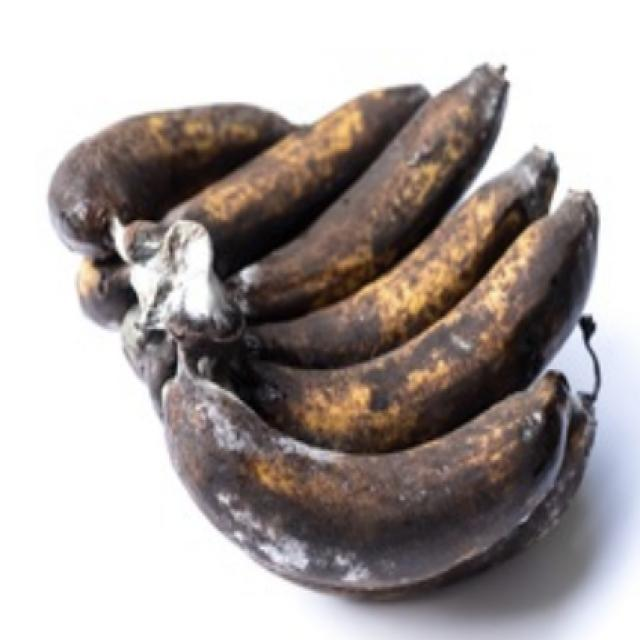rotten-banana: (135, 380, 582, 602), (232, 207, 604, 440), (220, 84, 532, 306), (234, 176, 547, 355), (155, 65, 425, 272), (31, 108, 252, 198)
